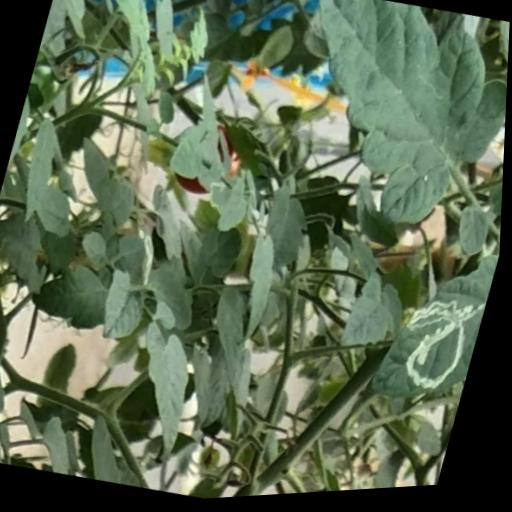Healthy: (258, 0, 512, 258), (116, 319, 212, 464), (27, 254, 119, 338), (338, 270, 411, 363), (97, 267, 156, 348), (451, 208, 497, 266), (0, 329, 25, 420)
Leaf_Miner: (367, 238, 503, 425)
